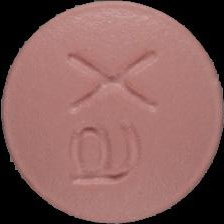50458-580: (0, 0, 224, 224)
